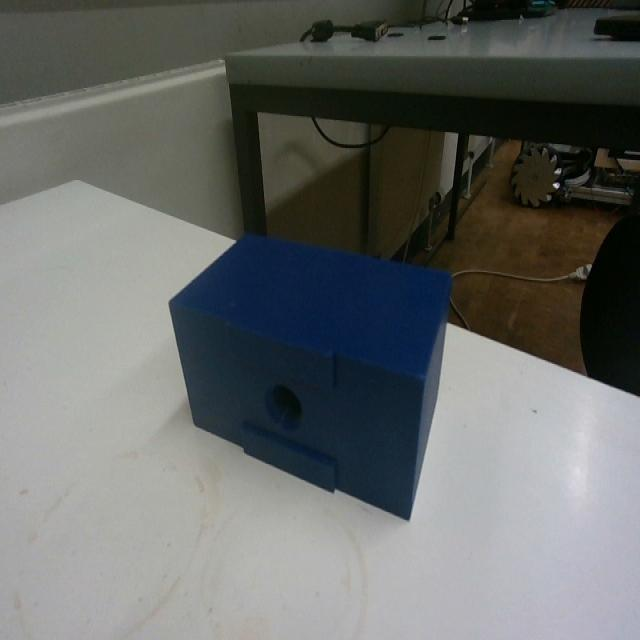Blue Cuboid: (166, 227, 454, 521)
